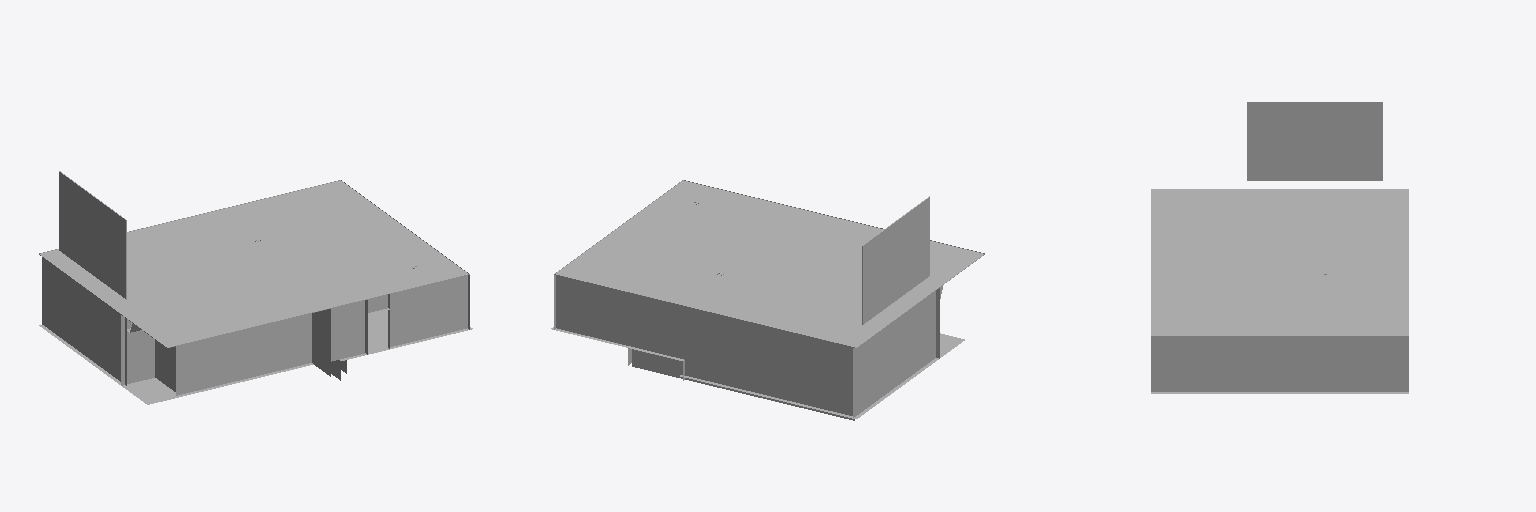
File: LC_cont1_205.obj
3 renders of one model, left to right at view 1: azimuth 30°, elevation 25°; view 2: azimuth 150°, elevation 25°; view 3: azimuth 270°, elevation 25°, orthographic.
Visible parts, largest first — view 1: room205_opt.001; view 2: room205_opt.001; view 3: room205_opt.001.
Part boxes in pixels (x1,y1,x2,y2): room205_opt.001: (39, 171, 472, 404); room205_opt.001: (551, 180, 984, 420); room205_opt.001: (1151, 102, 1408, 393).
Bounding box in the file's own units: 25.92 × 13.44 × 18.88.